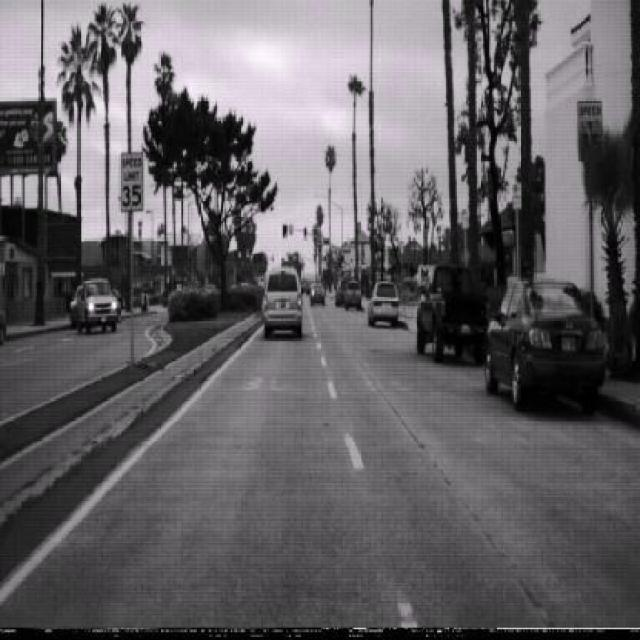speedLimit35: (118, 149, 144, 212)
